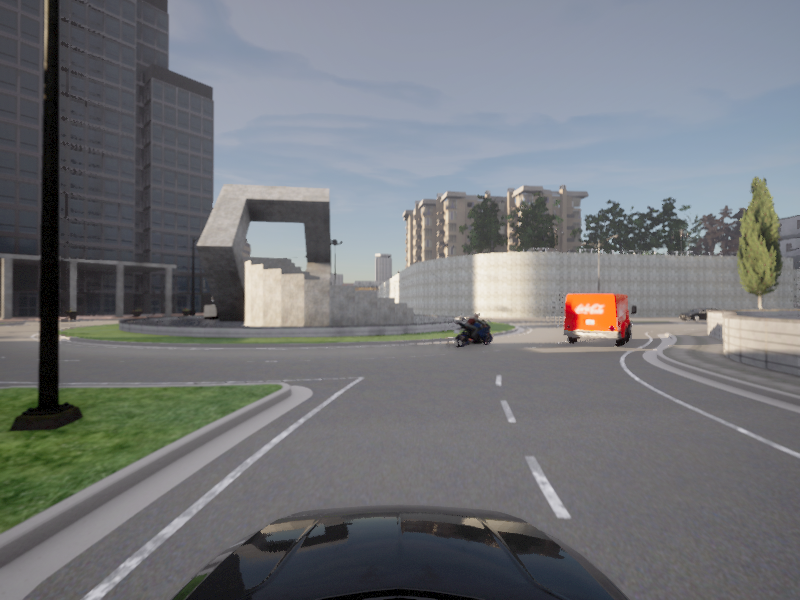vehicle: (559, 292, 638, 349), (449, 313, 499, 349)
